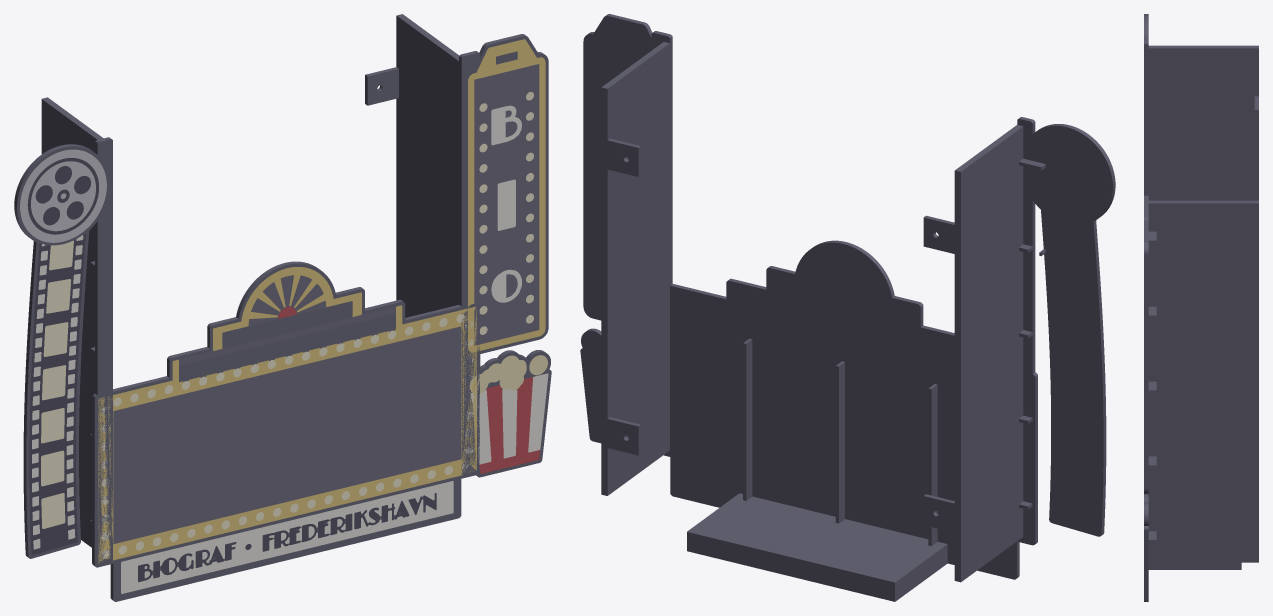
The model's file is parts.glb.
3 views of the same model, side by side, from view 1: azimuth 30°, elevation 25°; view 2: azimuth 150°, elevation 25°; view 3: azimuth 270°, elevation 25° (orthographic). The views are drawn at different scales.
Parts seen in each view (by area): view 1: topper__night, wing_right__base, wing_left__base, topper__gold, topper__base, wing_right__night, wing_left__deep, topper__white, wing_right__gold, wing_right__white, wing_left__bulb, wing_left__silver (+6 smaller); view 2: topper__base, wing_left__base, wing_right__base; view 3: wing_right__base, wing_left__base, topper__base.
Boxes of the visible parts, <box> form: topper__night: <box>113,275,461,543</box>; wing_right__base: <box>365,14,551,478</box>; wing_left__base: <box>14,97,112,566</box>; topper__gold: <box>98,267,476,563</box>; topper__base: <box>92,261,479,601</box>; wing_right__night: <box>474,64,539,345</box>; wing_left__deep: <box>27,158,98,555</box>; topper__white: <box>121,481,453,593</box>; wing_right__gold: <box>468,39,545,352</box>; wing_right__white: <box>471,105,548,464</box>; wing_left__bulb: <box>41,240,73,528</box>; wing_left__silver: <box>20,149,106,242</box>; topper__base: <box>664,240,1037,601</box>; wing_left__base: <box>923,117,1115,582</box>; wing_right__base: <box>580,14,672,495</box>; wing_right__base: <box>1144,195,1258,601</box>; wing_left__base: <box>1144,14,1258,200</box>; topper__base: <box>1148,562,1241,569</box>.
Size of the model in its own units: 345 by 288 by 73.
